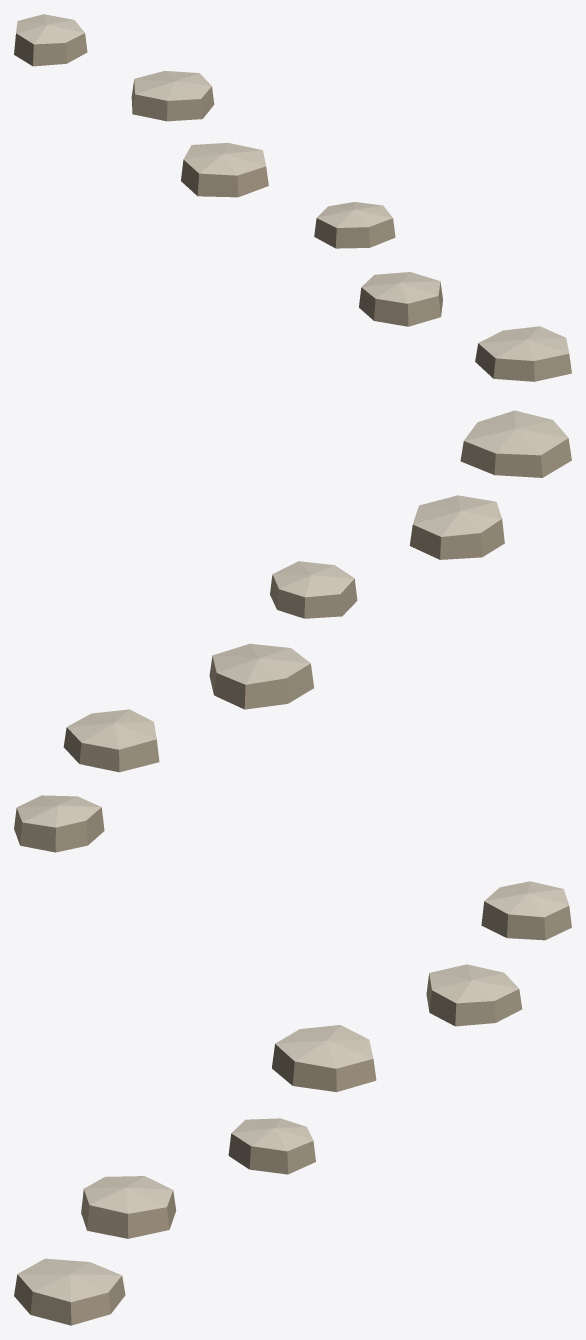
File: stepping-stones.glb
3 views of the same model, one above another, from view 1: azimuth 30°, elevation 25°; view 2: azimuth 150°, elevation 25°; view 3: azimuth 330°, elevation 25° (orthographic). The views are drawn at different scales.
Parts seen in each view (by area): view 1: stepping-stones; view 2: stepping-stones; view 3: stepping-stones.
Part boxes in pixels (left/top/right/bottom): stepping-stones: left=14, top=14, right=571, bottom=381; stepping-stones: left=14, top=410, right=571, bottom=852; stepping-stones: left=14, top=881, right=571, bottom=1325.
Size of the model in its own units: 3.81 by 0.8 by 27.58.
